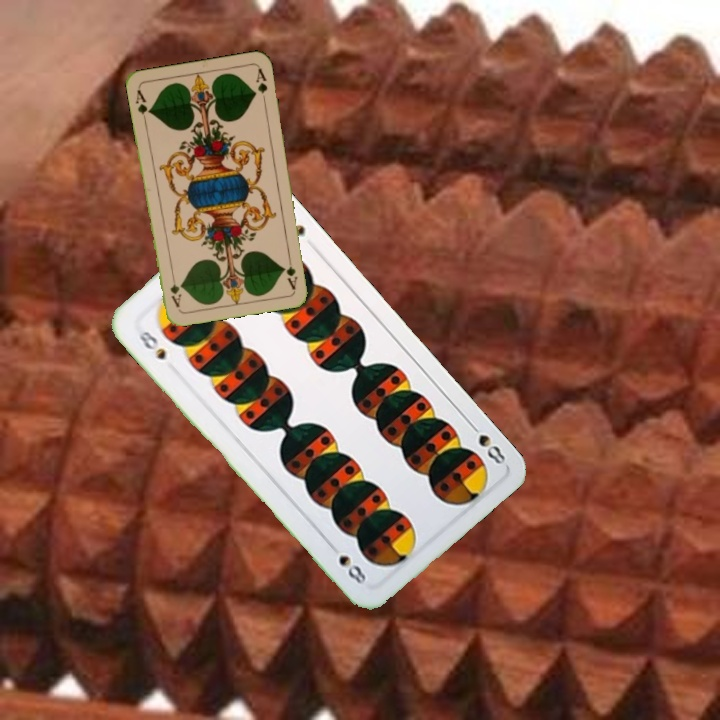GA: (131, 86, 153, 125), (282, 251, 300, 292)
S8: (464, 417, 508, 468), (131, 325, 169, 363)
